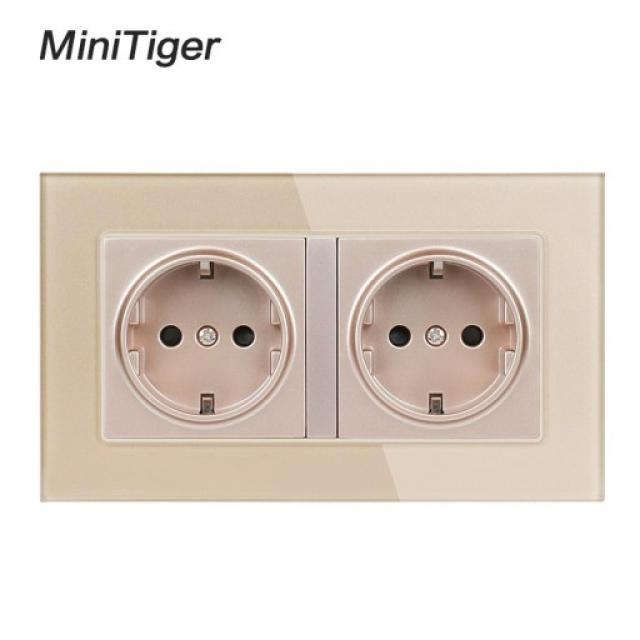typeb: (19, 140, 606, 548)
